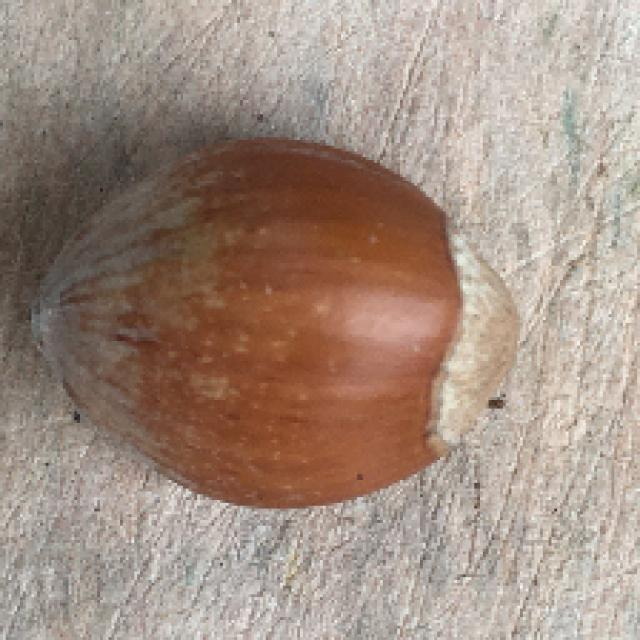qualityHazelnut: (19, 134, 532, 514)
